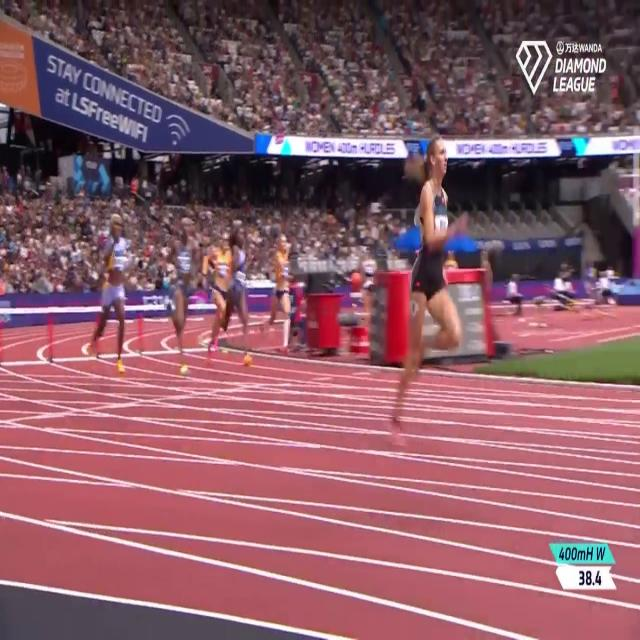athlete: (398, 117, 464, 487), (86, 209, 128, 391), (224, 215, 257, 382), (202, 223, 237, 374), (172, 206, 196, 405), (272, 224, 296, 388)
hurdle: (88, 298, 144, 369), (0, 304, 49, 374), (138, 300, 178, 366), (47, 304, 89, 364)
